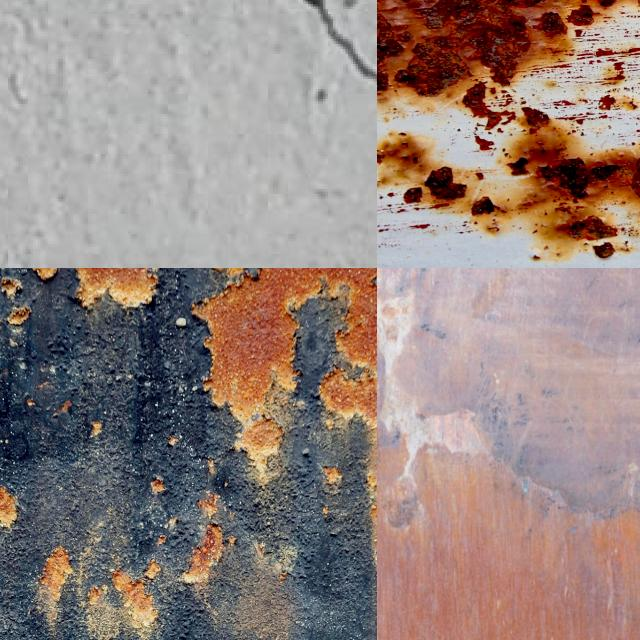Crack: (303, 0, 377, 87)
Pitting Corrosion: (377, 100, 640, 266), (377, 0, 548, 96), (541, 0, 621, 40), (463, 82, 501, 129)
Uniform Corrosion: (377, 449, 640, 640), (196, 268, 377, 419), (83, 559, 159, 640), (234, 416, 288, 493), (319, 367, 377, 428), (77, 268, 157, 306), (181, 524, 225, 586), (40, 547, 72, 622), (0, 487, 17, 528)
